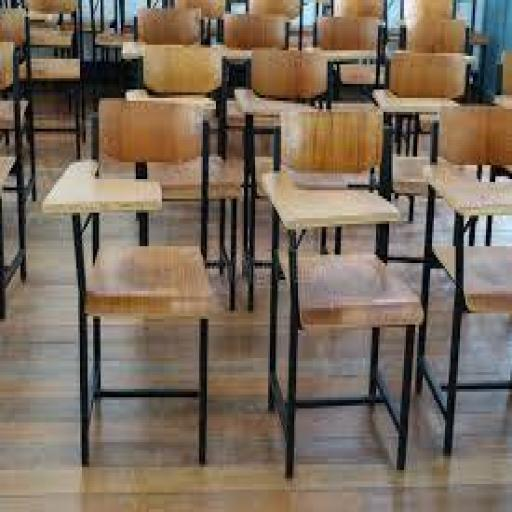chair: (39, 88, 227, 466), (266, 106, 426, 484), (428, 100, 512, 462)
